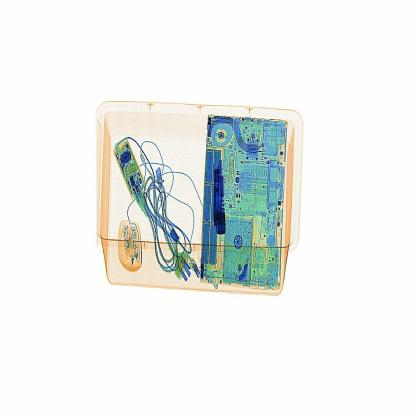pliers: (213, 158, 241, 244)
